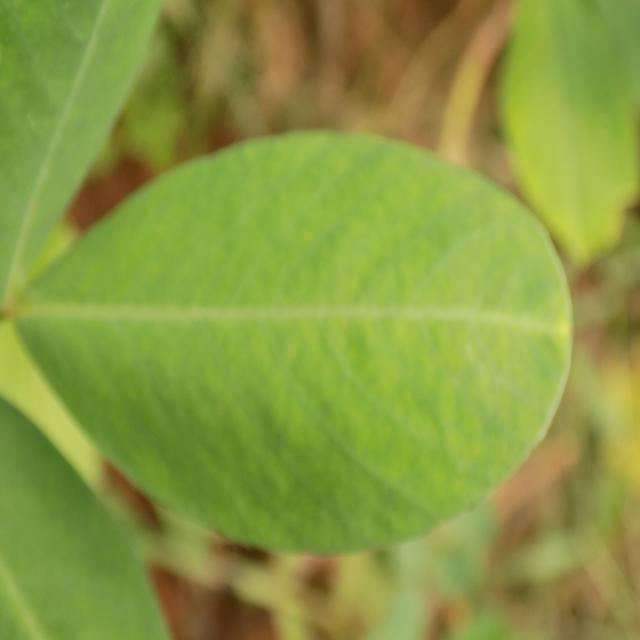Ground nut_healthy: (18, 131, 580, 552)
